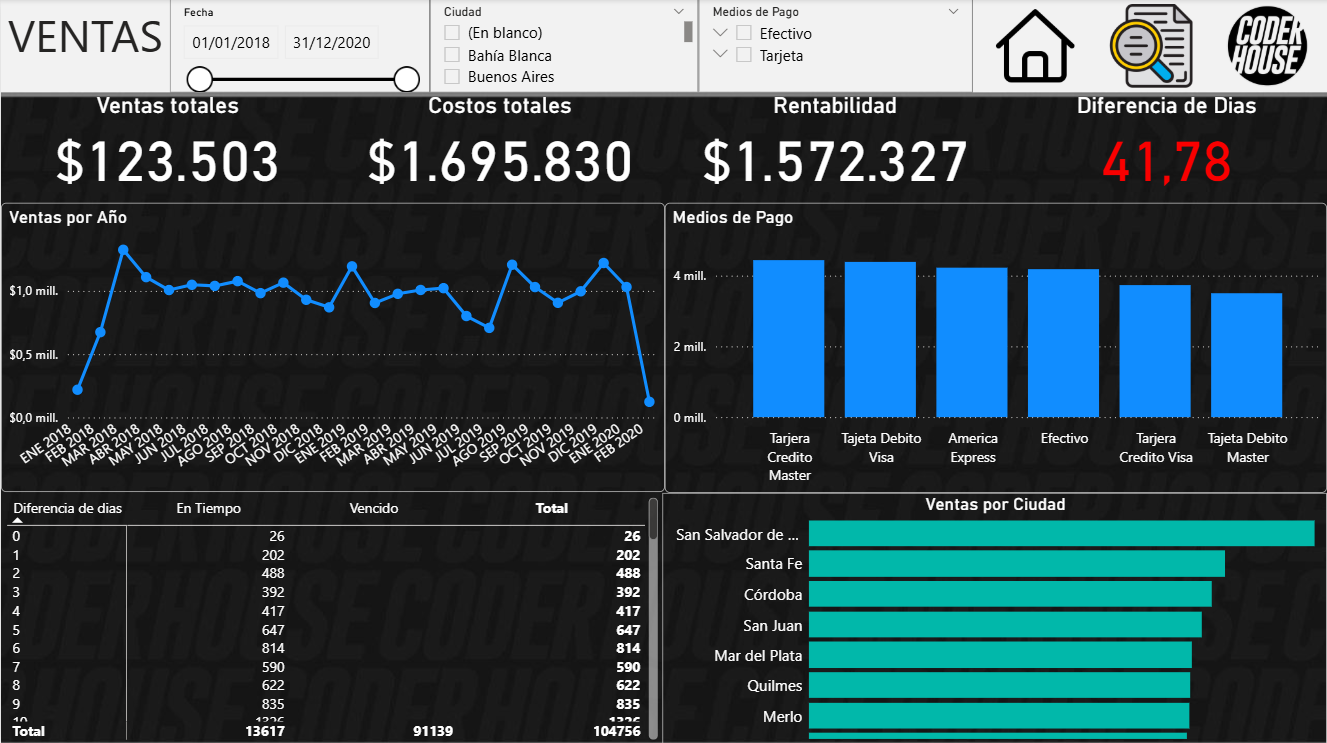

The page's visual inventory and layout, read from the dashboard file:
{"tool":"powerbi","page":{"name":"VENTAS","canvas":[1280,720],"ordinal":2},"visuals":[{"type":"image","box":[1163.6,0,116.2,90.7],"z":0},{"type":"image","box":[938.3,0,119.1,90.7],"z":1000},{"type":"image","box":[1057.3,0,106.3,90.7],"z":2000},{"type":"textbox","box":[0,0,163,90.7],"z":3000},{"type":"slicer","fields":{"Values":["DIM FECHAS.Fecha"]},"box":[163,0,250.9,90.7],"z":4000},{"type":"slicer","fields":{"Values":["DIM TERRITORIO.Ciudad"]},"box":[413.9,0,259.4,90.7],"z":5000},{"type":"slicer","fields":{"Values":["DIM MEDIOS DE PAGO.Categoría de pago","DIM MEDIOS DE PAGO.Descripción"]},"box":[673.2,0,265,90.7],"z":6000},{"type":"kpi","title":"Ventas totales","fields":{"TrendLine":["DIM FECHAS.Mes y Año"],"Indicator":["DIM MEDIDAS.Ventas totales"]},"box":[0,90.7,321.7,106.3],"z":7000},{"type":"kpi","title":"Costos totales","fields":{"TrendLine":["DIM FECHAS.Mes y Año"],"Indicator":["DIM MEDIDAS.Costos Totales"]},"box":[321.7,90.7,318.9,106.3],"z":8000},{"type":"kpi","title":"Rentabilidad","fields":{"TrendLine":["DIM FECHAS.Mes y Año"],"Indicator":["DIM MEDIDAS.Rentabilidad Total"]},"box":[640.6,90.7,328.8,106.3],"z":9000},{"type":"kpi","title":"Diferencia de Dias","fields":{"TrendLine":["DIM FECHAS.Mes y Año"],"Indicator":["DIM MEDIDAS.Promedio Diferencia de Dias"]},"box":[969.4,90.7,310.4,106.3],"z":10000},{"type":"lineChart","title":"Ventas por Año","fields":{"Y":["DIM MEDIDAS.Ventas totales"],"Category":["DIM FECHAS.Mes Año"]},"box":[0,197,640.6,279.2],"z":11000},{"type":"map","fields":{"Category":["DIM TERRITORIO.Ciudad"],"Y":["Avg(DIM TERRITORIO.Latitud)"],"X":["Avg(DIM TERRITORIO.Longitud)"]},"box":[969.4,197,310.4,523],"z":12000},{"type":"clusteredColumnChart","title":"Medios de Pago","fields":{"Y":["Sum(FACT VENTAS.Total de Ventas)"],"Category":["DIM MEDIOS DE PAGO.Descripción"]},"box":[640.6,197,328.8,279.2],"z":13000},{"type":"AttributeSlicer1652434005853","title":"Ventas por Ciudad","fields":{"Category":["DIM TERRITORIO.Ciudad"],"Values":["Sum(FACT VENTAS.Cantidad )"]},"box":[637.8,476.2,331.7,243.8],"z":14000},{"type":"pivotTable","fields":{"Values":["Sum(FACT VENTAS.Cantidad )"],"Columns":["FACT VENTAS.Categoria Diferencia de dias"],"Rows":["FACT VENTAS.Diferencia de dias"]},"box":[1.4,476.2,637.8,243.8],"z":15000}]}

Visuals, with their boxes in screenshot pixels (x1, y1, x2, y2), scaled from the page's 1280x720 canvas onto the 1327x743 screenshot:
image: region(1206, 0, 1326, 94)
image: region(973, 0, 1096, 94)
image: region(1096, 0, 1206, 94)
textbox: region(0, 0, 169, 94)
slicer - DIM FECHAS.Fecha: region(169, 0, 429, 94)
slicer - DIM TERRITORIO.Ciudad: region(429, 0, 698, 94)
slicer - DIM MEDIOS DE PAGO.Categoría de pago x DIM MEDIOS DE PAGO.Descripción: region(698, 0, 973, 94)
"Ventas totales" kpi: region(0, 94, 334, 203)
"Costos totales" kpi: region(334, 94, 664, 203)
"Rentabilidad" kpi: region(664, 94, 1005, 203)
"Diferencia de Dias" kpi: region(1005, 94, 1326, 203)
"Ventas por Año" lineChart: region(0, 203, 664, 491)
map - DIM TERRITORIO.Ciudad x Avg(DIM TERRITORIO.Latitud): region(1005, 203, 1326, 742)
"Medios de Pago" clusteredColumnChart: region(664, 203, 1005, 491)
"Ventas por Ciudad" AttributeSlicer1652434005853: region(661, 491, 1005, 742)
pivotTable - Sum(FACT VENTAS.Cantidad ) x FACT VENTAS.Categoria Diferencia de dias: region(1, 491, 663, 742)
